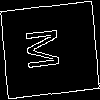M: (25, 24, 68, 72)
